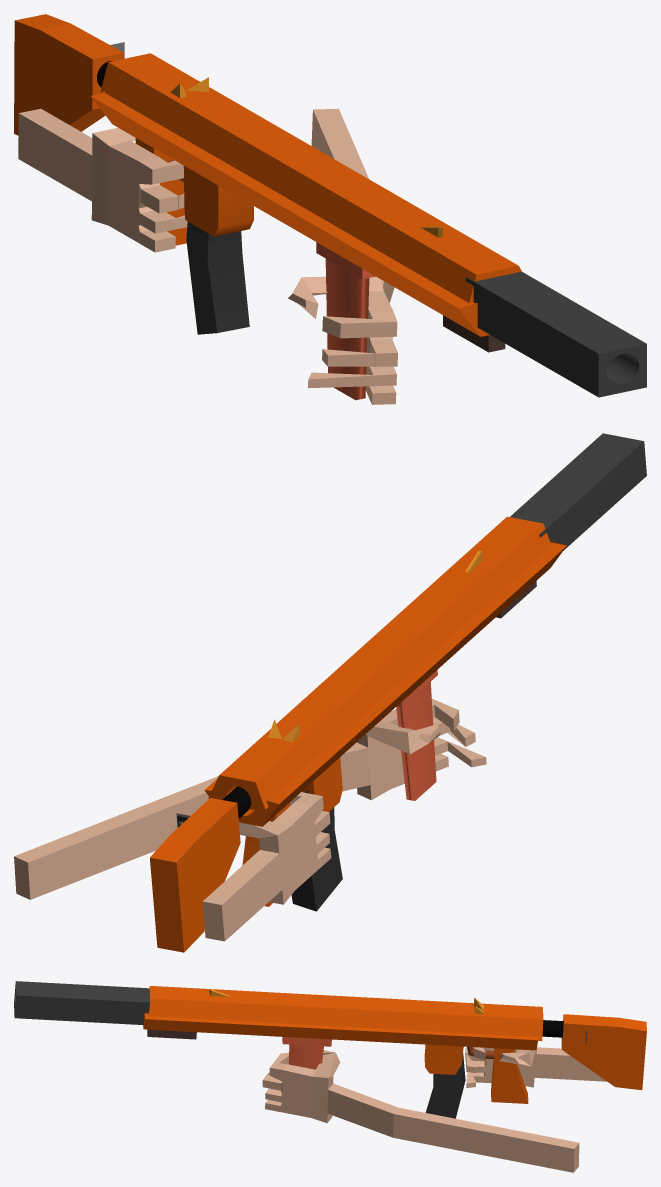
Rendered from ar reload 10.fbx.
The picture shows the model from 3 angles, top to bottom: view 1: azimuth 30°, elevation 25°; view 2: azimuth 150°, elevation 25°; view 3: azimuth 270°, elevation 25°; orthographic projection. The views are drawn at different scales.
Visible parts, largest first — view 1: Cube.011, Cube, Cube.005, Cube.008, Cube.013, Cube.009, Cube.004, Cube.012, Cube.010, Cube.002, Cube.003; view 2: Cube.011, Cube.013, Cube, Cube.009, Cube.005, Cube.008, Cube.012, Cube.004, Cube.010; view 3: Cube.011, Cube.013, Cube.008, Cube.005, Cube.009, Cube, Cube.002, Cube.004, Cube.012, Cube.010, Cube.003, Cylinder.002.
Part boxes in pixels (left/top/right/bottom): Cube.011: left=100, top=53, right=521, bottom=302; Cube: left=18, top=108, right=187, bottom=252; Cube.005: left=465, top=271, right=646, bottom=397; Cube.008: left=91, top=91, right=489, bottom=336; Cube.013: left=288, top=108, right=397, bottom=404; Cube.009: left=14, top=14, right=123, bottom=135; Cube.004: left=186, top=222, right=249, bottom=334; Cube.012: left=316, top=242, right=375, bottom=400; Cube.010: left=183, top=166, right=253, bottom=236; Cube.002: left=135, top=138, right=187, bottom=245; Cube.003: left=443, top=315, right=505, bottom=352; Cube.011: left=208, top=516, right=551, bottom=809; Cube.013: left=14, top=699, right=486, bottom=899; Cube: left=202, top=792, right=331, bottom=941; Cube.009: left=150, top=798, right=240, bottom=952; Cube.005: left=510, top=433, right=646, bottom=550; Cube.008: left=204, top=541, right=566, bottom=826; Cube.012: left=396, top=670, right=437, bottom=800; Cube.004: left=291, top=790, right=342, bottom=911; Cube.010: left=302, top=757, right=342, bottom=811; Cube.011: left=149, top=986, right=543, bottom=1040; Cube.013: left=262, top=1050, right=579, bottom=1172; Cube.008: left=143, top=1013, right=537, bottom=1050; Cube.005: left=14, top=981, right=149, bottom=1024; Cube.009: left=561, top=1014, right=646, bottom=1090; Cube: left=465, top=1047, right=606, bottom=1087; Cube.002: left=491, top=1048, right=528, bottom=1103; Cube.004: left=425, top=1053, right=465, bottom=1118; Cube.012: left=282, top=1037, right=331, bottom=1069; Cube.010: left=424, top=1044, right=463, bottom=1074; Cube.003: left=147, top=1029, right=196, bottom=1039; Cylinder.002: left=542, top=1020, right=563, bottom=1037.
Size of the model in its own units: 545 by 472 by 1822.
11 materials, 1 textured.
